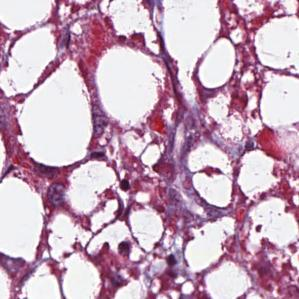ballooning: (180, 137, 241, 215)
